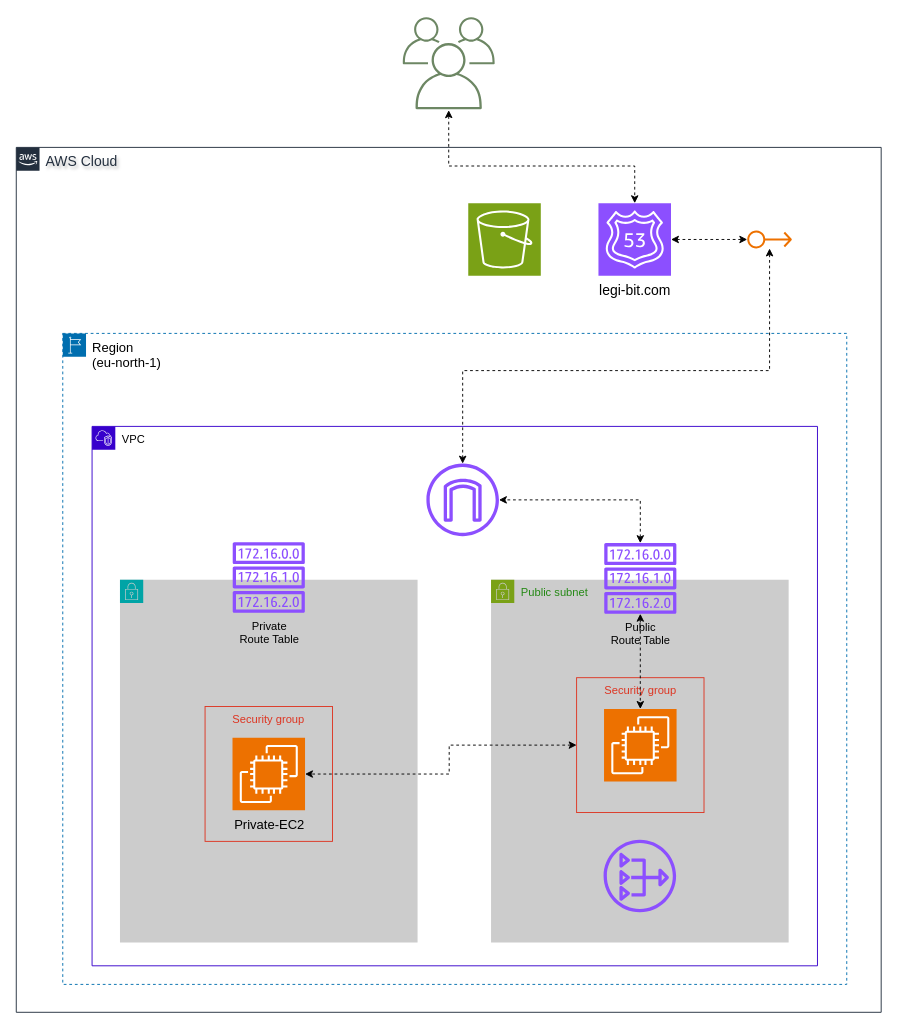
Image size: 897x1029. Some labels were removed from this diagram. Each missing label, with the box of its shape:
Internet GateWay: (426, 463, 498, 536)
Nat Gateway: (603, 839, 676, 912)
Private subnet: (119, 579, 418, 943)
Public-EC2: (603, 708, 677, 781)
S3 Bucket: (467, 202, 541, 276)
